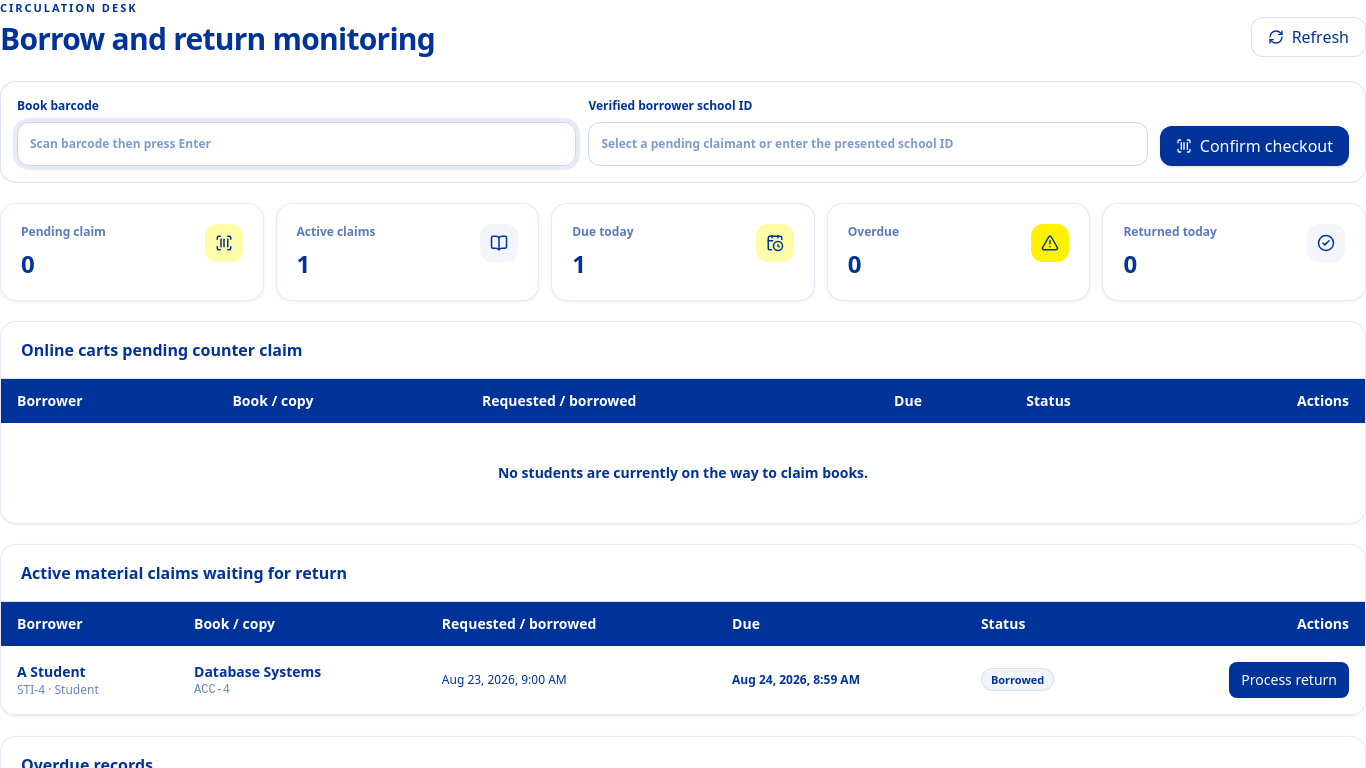
Test case: AdminCirculationMonitor › cancelling a warning does not check out the book
Expected: the text "Database Systems" is shown, [194, 662, 321, 680]
Type "BOOK-5" into the field with placeholder "Scan barcode then press Enter" at [297, 144], box [17, 122, 576, 166]
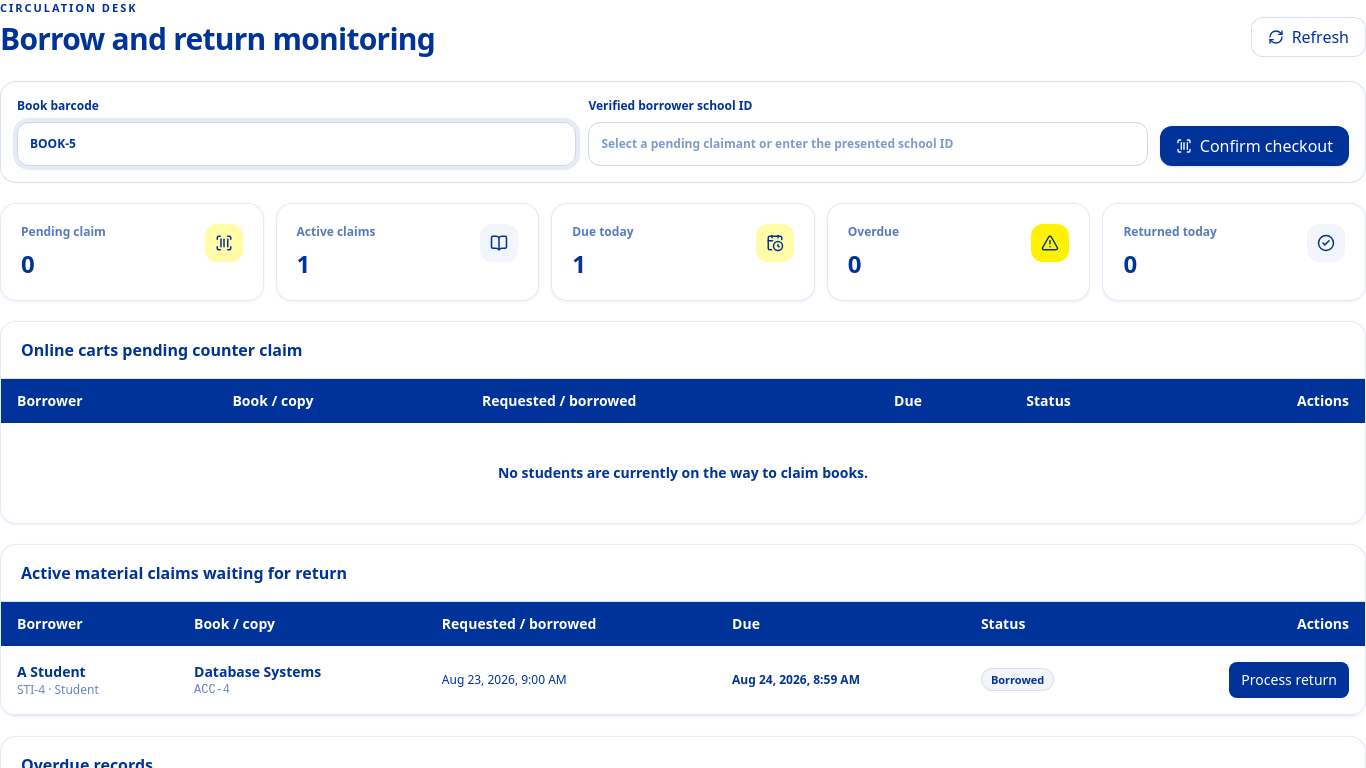
Type "STI-5" into the field with placeholder "Select a pending claimant or enter the presented school ID" at [868, 144], box [588, 122, 1148, 166]
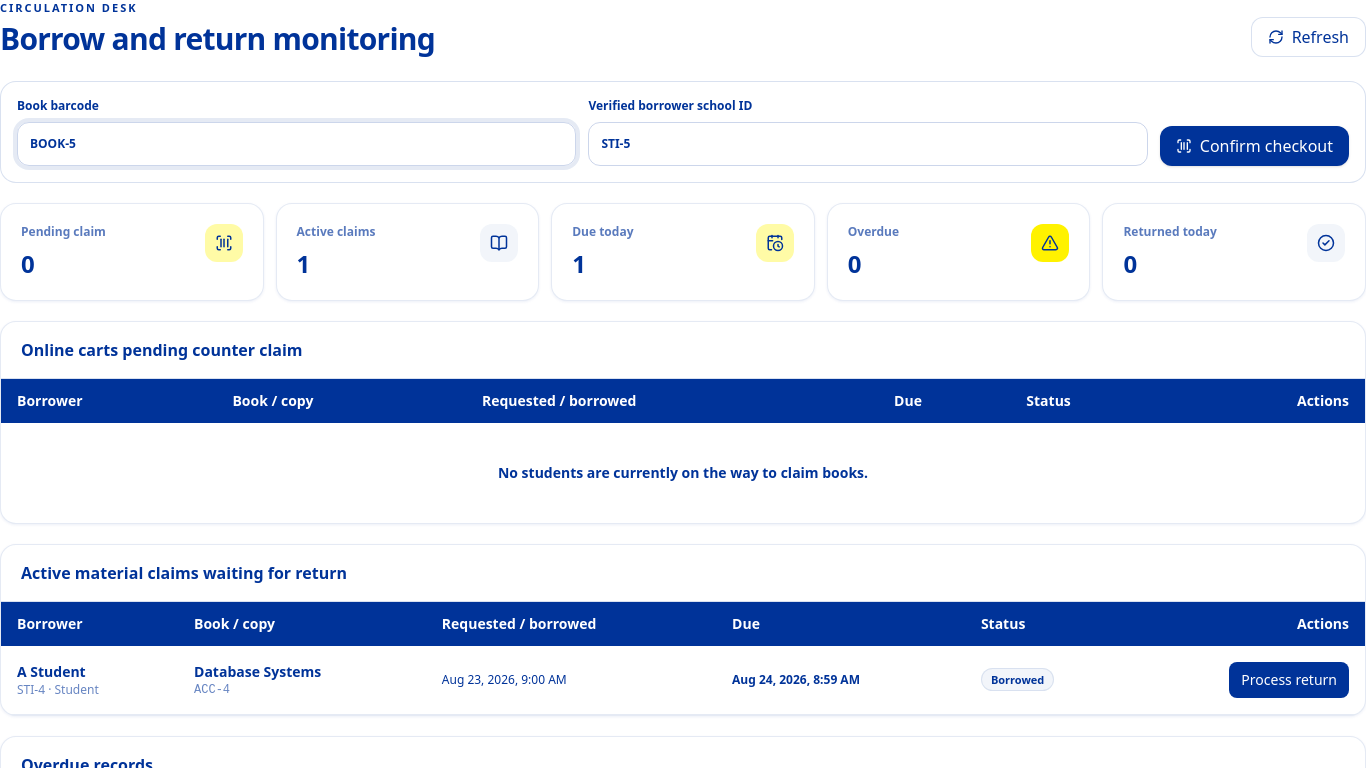
Click the button "Confirm checkout" at [1254, 146], box [1160, 126, 1349, 166]
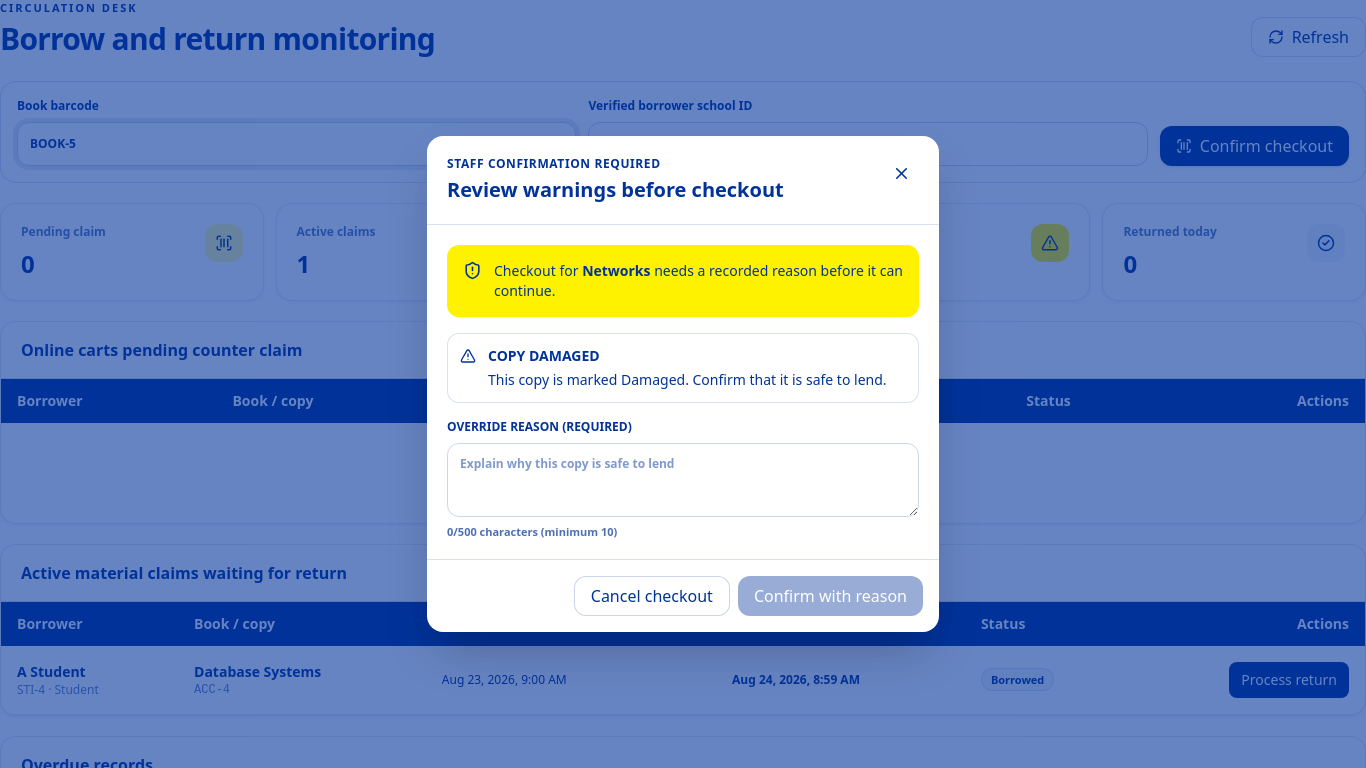
Expected: the dialog is shown
Click the button "Cancel checkout" at [652, 596], box [574, 576, 730, 616]
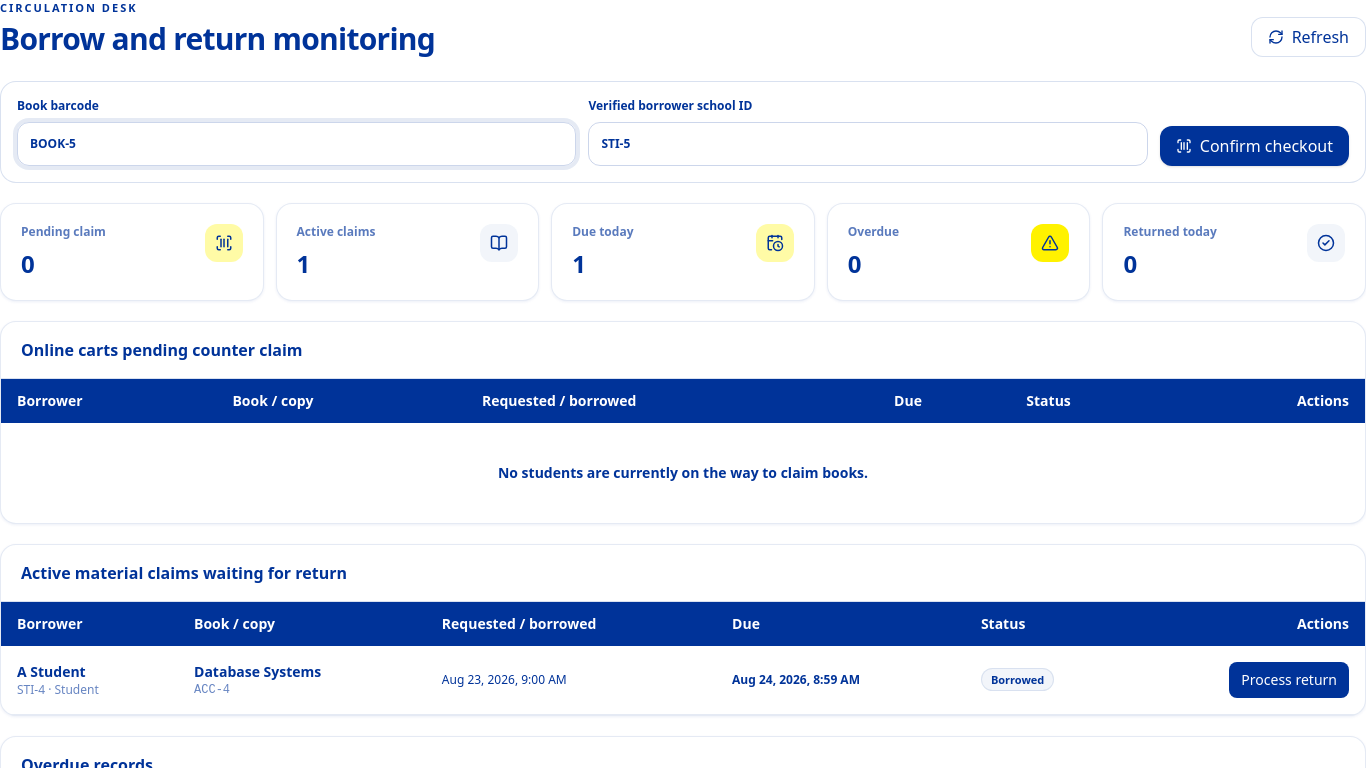
Expected: the dialog is gone
